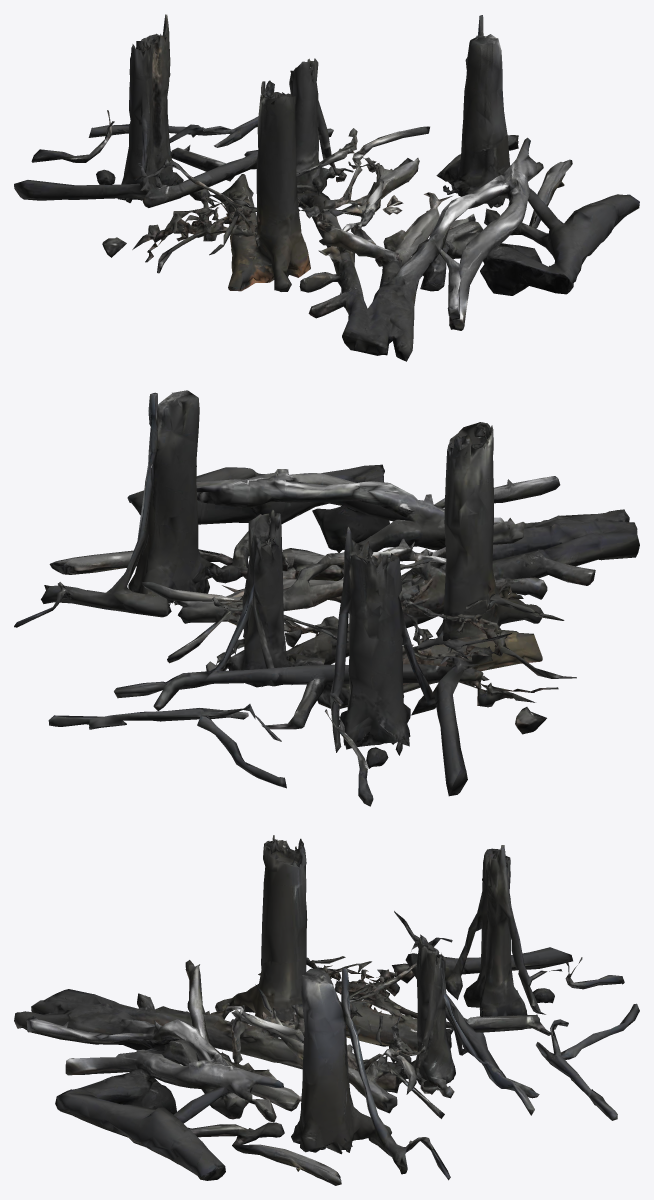
File: tala.glb
3 renders of one model, top to bottom at view 1: azimuth 30°, elevation 25°; view 2: azimuth 150°, elevation 25°; view 3: azimuth 270°, elevation 25°, orthographic. The views are drawn at different scales.
Bounding box in the file's own units: 1.7 × 0.7202 × 2.
Materials: 1 (1 with a texture image).
